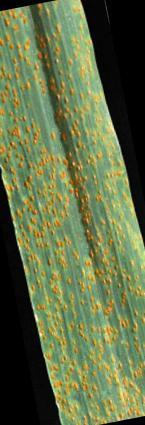Wheat: (62, 278, 145, 413), (20, 167, 123, 265), (2, 64, 91, 163), (4, 15, 84, 57)
